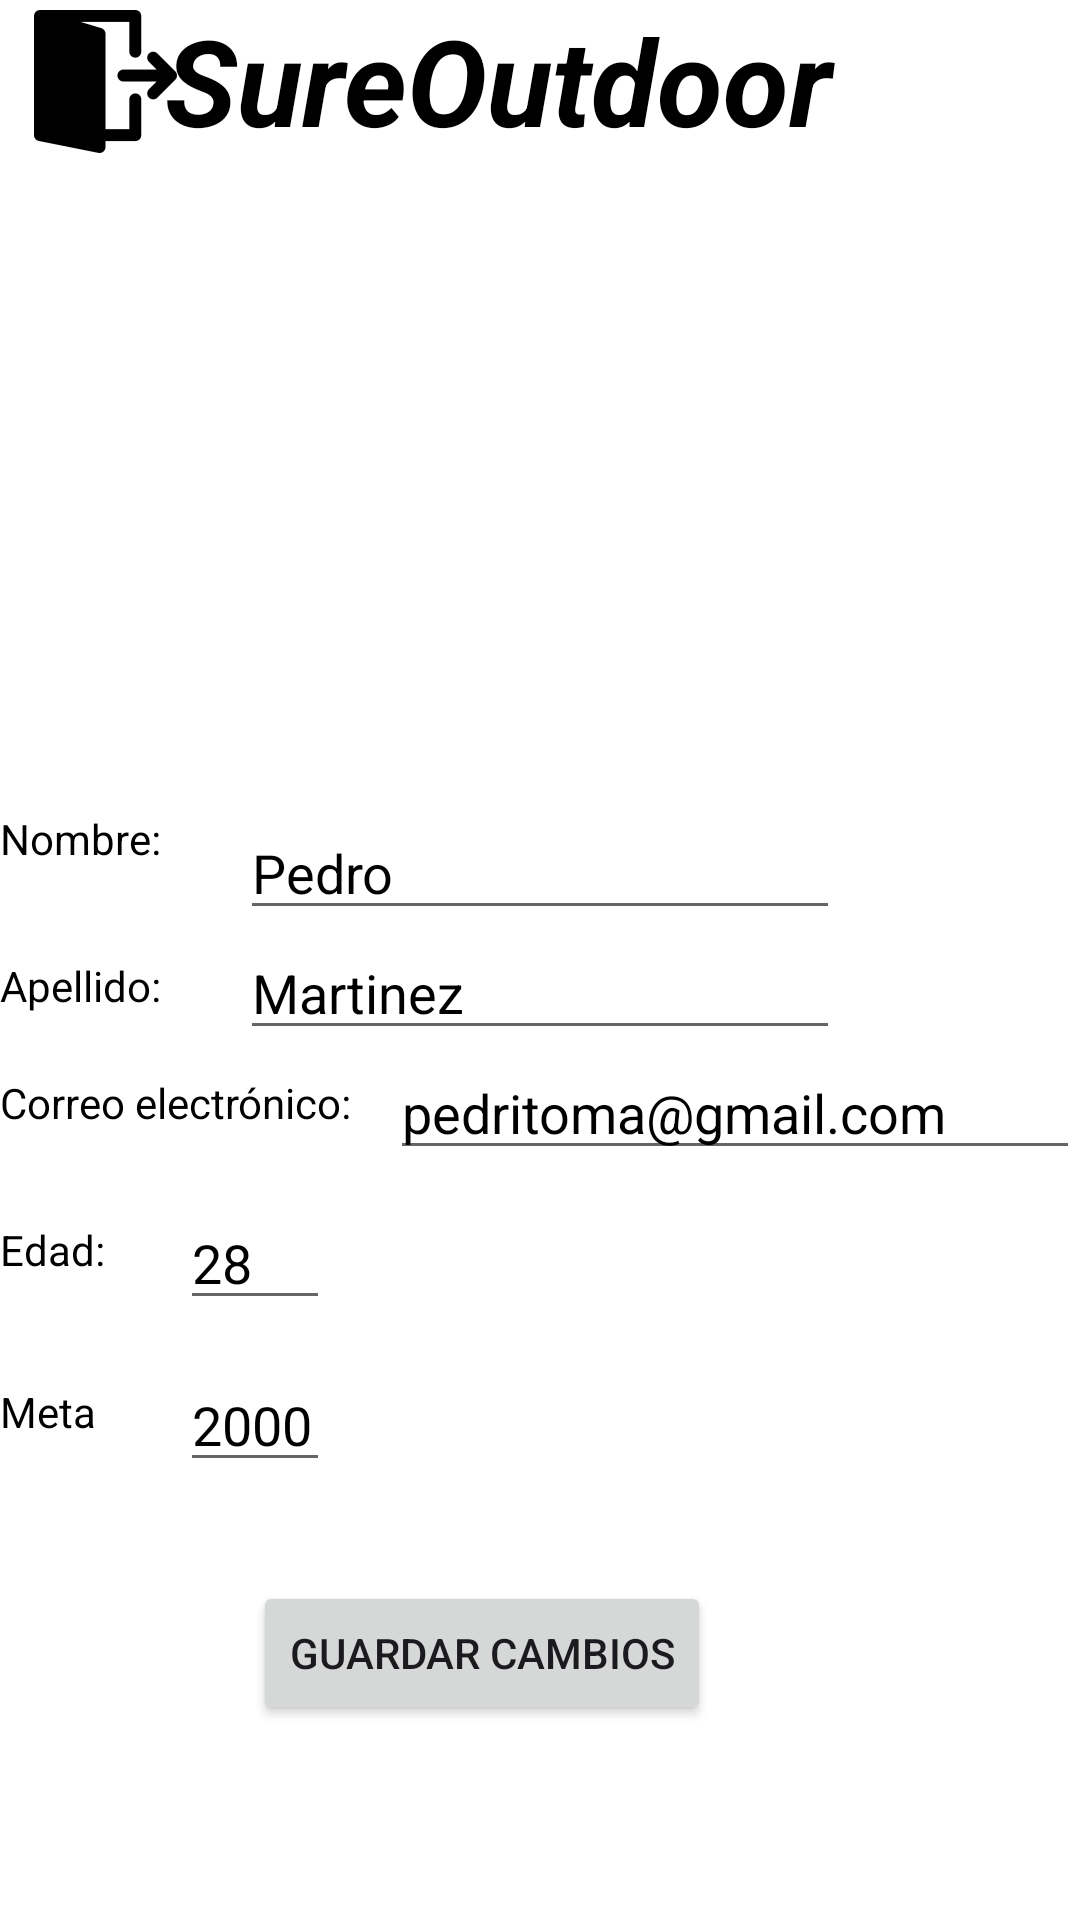

Named icons in this screenshot (1080x1920) and their centers, point (x, y):
Vuelve: point (88, 81)
